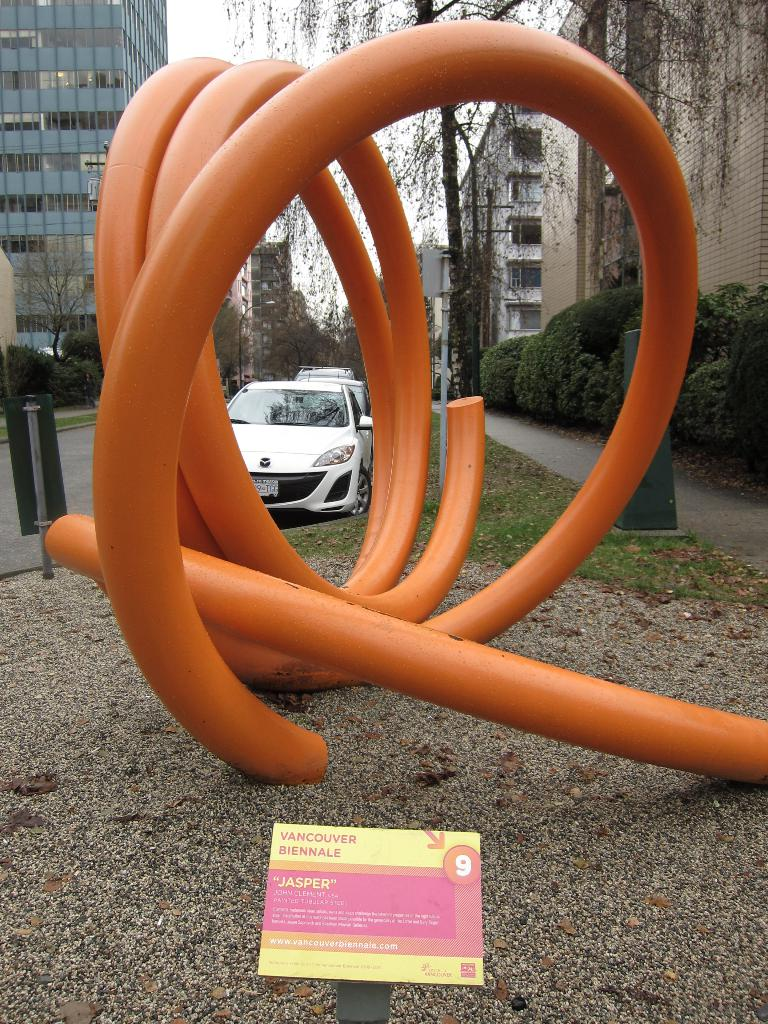Car: (224, 375, 374, 513), (299, 373, 369, 415)
